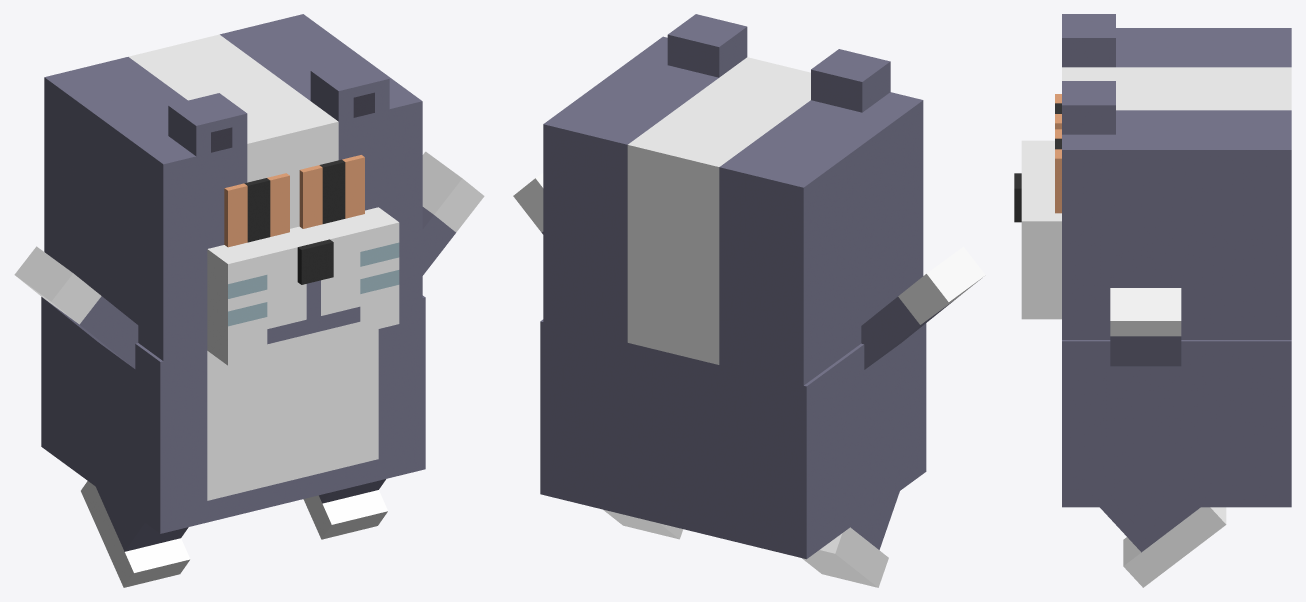
File: Ch_35@Down.FBX
The picture shows the model from 3 angles, left to right: view 1: azimuth 30°, elevation 25°; view 2: azimuth 150°, elevation 25°; view 3: azimuth 270°, elevation 25°; orthographic projection. The views are drawn at different scales.
Parts seen in each view (by area): view 1: Ch_35_Head, Ch_35, Ch_35_Eye_01, Ch_35_Leg_L, Ch_35_Hand_L, Ch_35_Hand_R, Ch_35_Leg_R; view 2: Ch_35_Head, Ch_35, Ch_35_Hand_L, Ch_35_Leg_L, Ch_35_Hand_R, Ch_35_Leg_R; view 3: Ch_35_Head, Ch_35, Ch_35_Leg_R, Ch_35_Hand_R, Ch_35_Eye_01.
Boxes of the visible parts, x1,y1,x2,y2 form: Ch_35_Head: [44, 14, 422, 365]; Ch_35: [41, 295, 425, 533]; Ch_35_Eye_01: [224, 155, 364, 247]; Ch_35_Leg_L: [81, 481, 190, 587]; Ch_35_Hand_L: [14, 246, 138, 368]; Ch_35_Hand_R: [422, 151, 484, 275]; Ch_35_Leg_R: [303, 479, 387, 539]; Ch_35_Head: [543, 14, 923, 385]; Ch_35: [540, 319, 926, 559]; Ch_35_Hand_L: [861, 246, 985, 369]; Ch_35_Leg_L: [802, 491, 899, 587]; Ch_35_Hand_R: [513, 173, 543, 234]; Ch_35_Leg_R: [603, 509, 683, 539]; Ch_35_Head: [1014, 14, 1291, 339]; Ch_35: [1062, 340, 1291, 507]; Ch_35_Leg_R: [1100, 507, 1226, 587]; Ch_35_Hand_R: [1110, 288, 1181, 366]; Ch_35_Eye_01: [1055, 94, 1061, 213].
Bounding box in the file's own units: 9.16 × 9.81 × 5.27.
